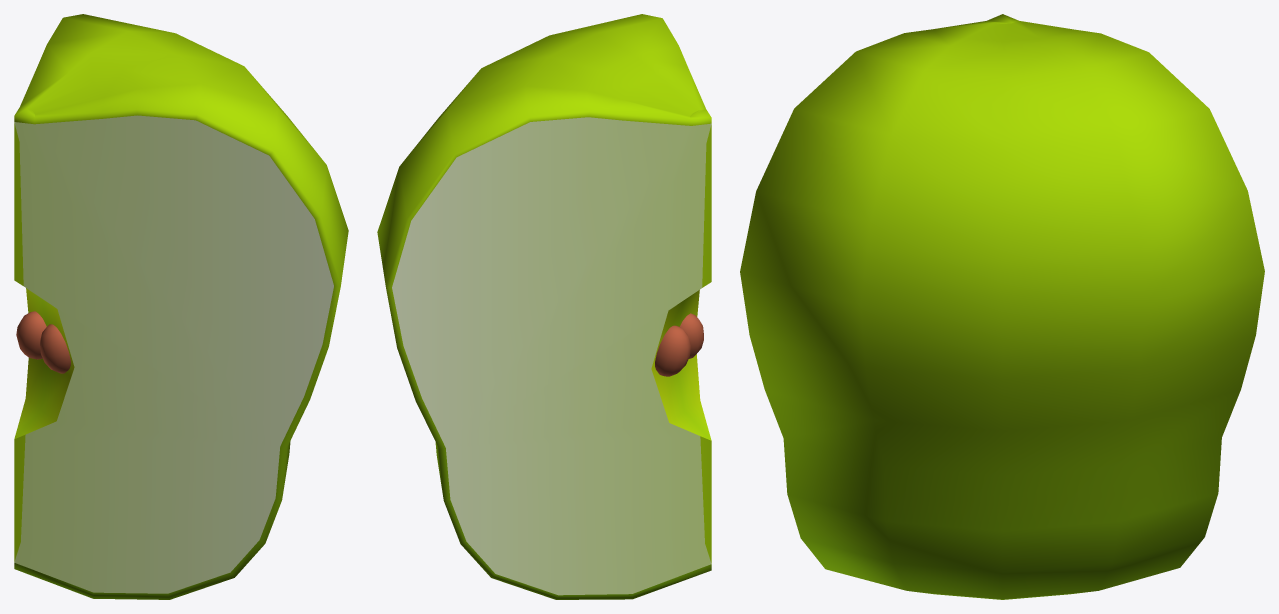
Rendered from Apple_V1_02.fbx.
The picture shows the model from 3 angles, left to right: view 1: azimuth 30°, elevation 25°; view 2: azimuth 150°, elevation 25°; view 3: azimuth 270°, elevation 25°; orthographic projection. The views are drawn at different scales.
Parts seen in each view (by area): view 1: Apple_V1_02; view 2: Apple_V1_02; view 3: Apple_V1_02.
Part boxes in pixels (<box>): Apple_V1_02: <box>14,14,348,599</box>; Apple_V1_02: <box>377,14,711,599</box>; Apple_V1_02: <box>740,14,1264,599</box>.
Size of the model in its own units: 15.57 by 25.27 by 22.04.
